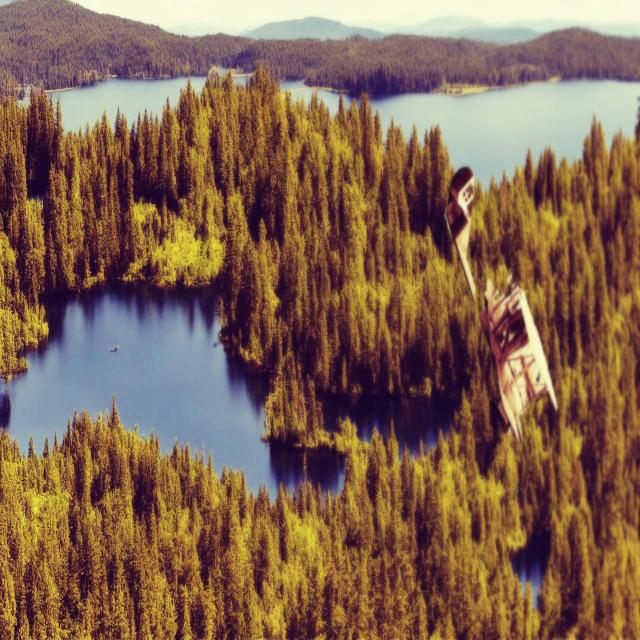airplane: (443, 165, 558, 442)
